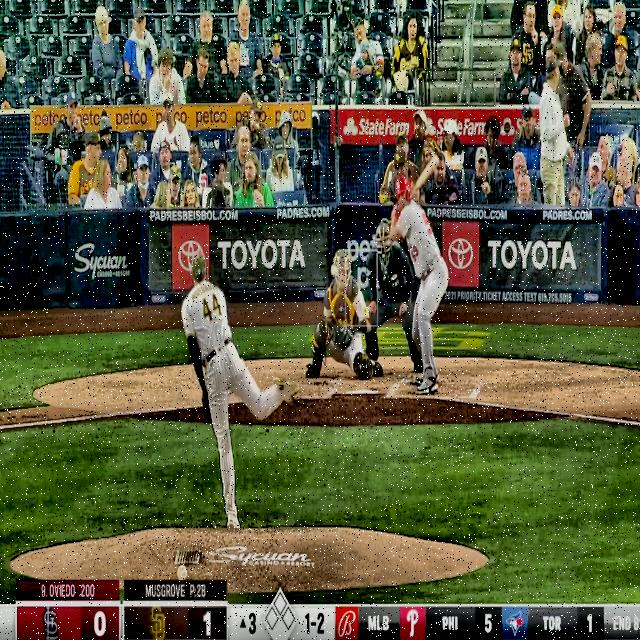baseball: (330, 265, 338, 277)
